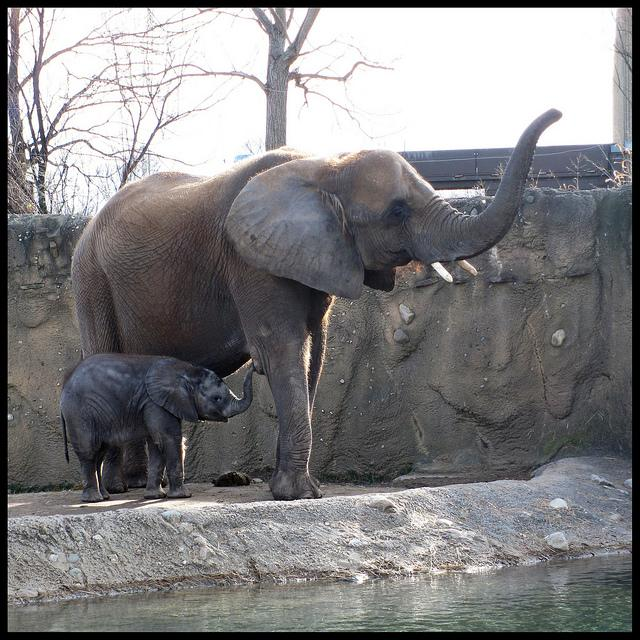Elephant: (68, 107, 562, 500), (59, 351, 254, 501)
